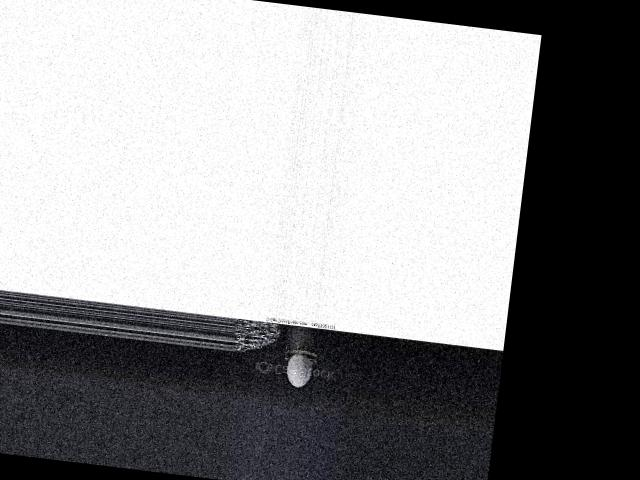egg: (285, 352, 314, 388)
